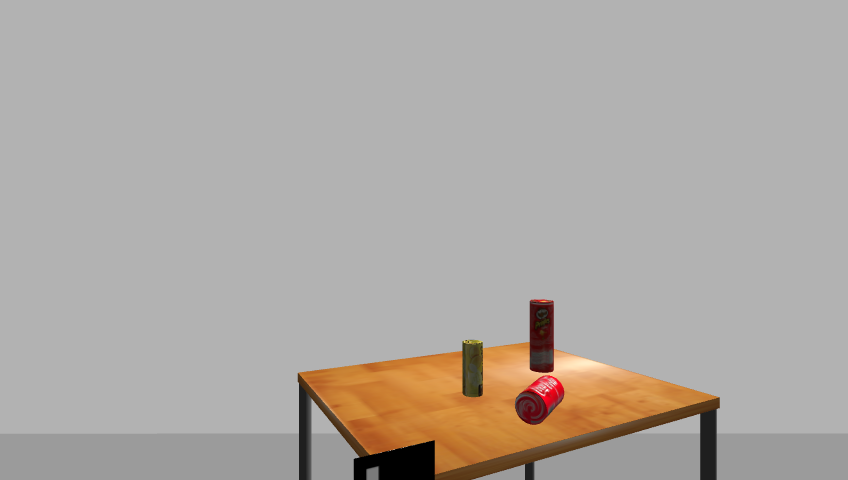aruco marker: (349, 440, 441, 480)
biscuits pack: (461, 339, 484, 398)
coke can: (512, 376, 567, 425)
dinner table: (287, 343, 730, 480)
pringles can: (527, 299, 556, 376)
